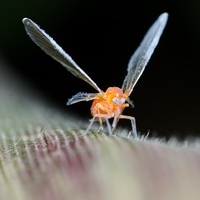insect: (22, 13, 167, 136)
